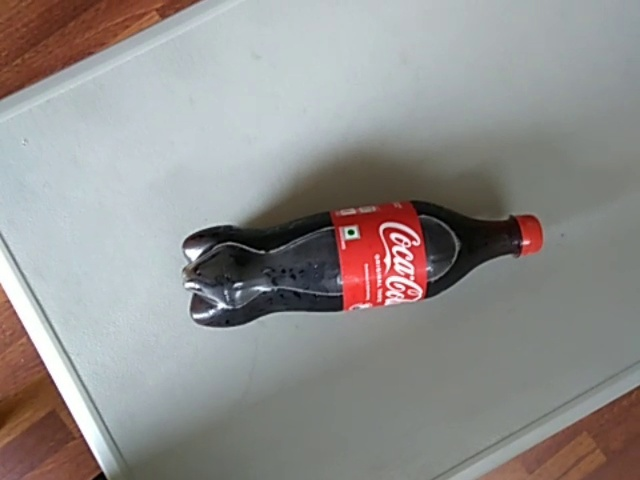Cocacola: (177, 195, 572, 344)
